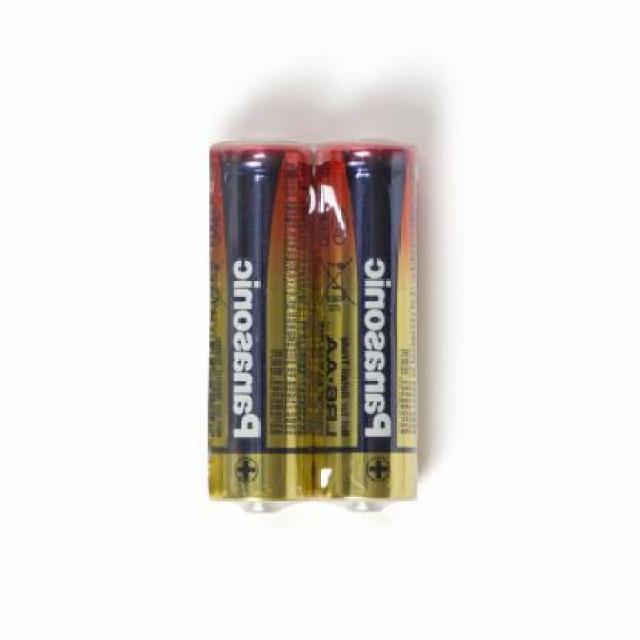AA: (308, 137, 427, 517), (203, 136, 316, 525)
